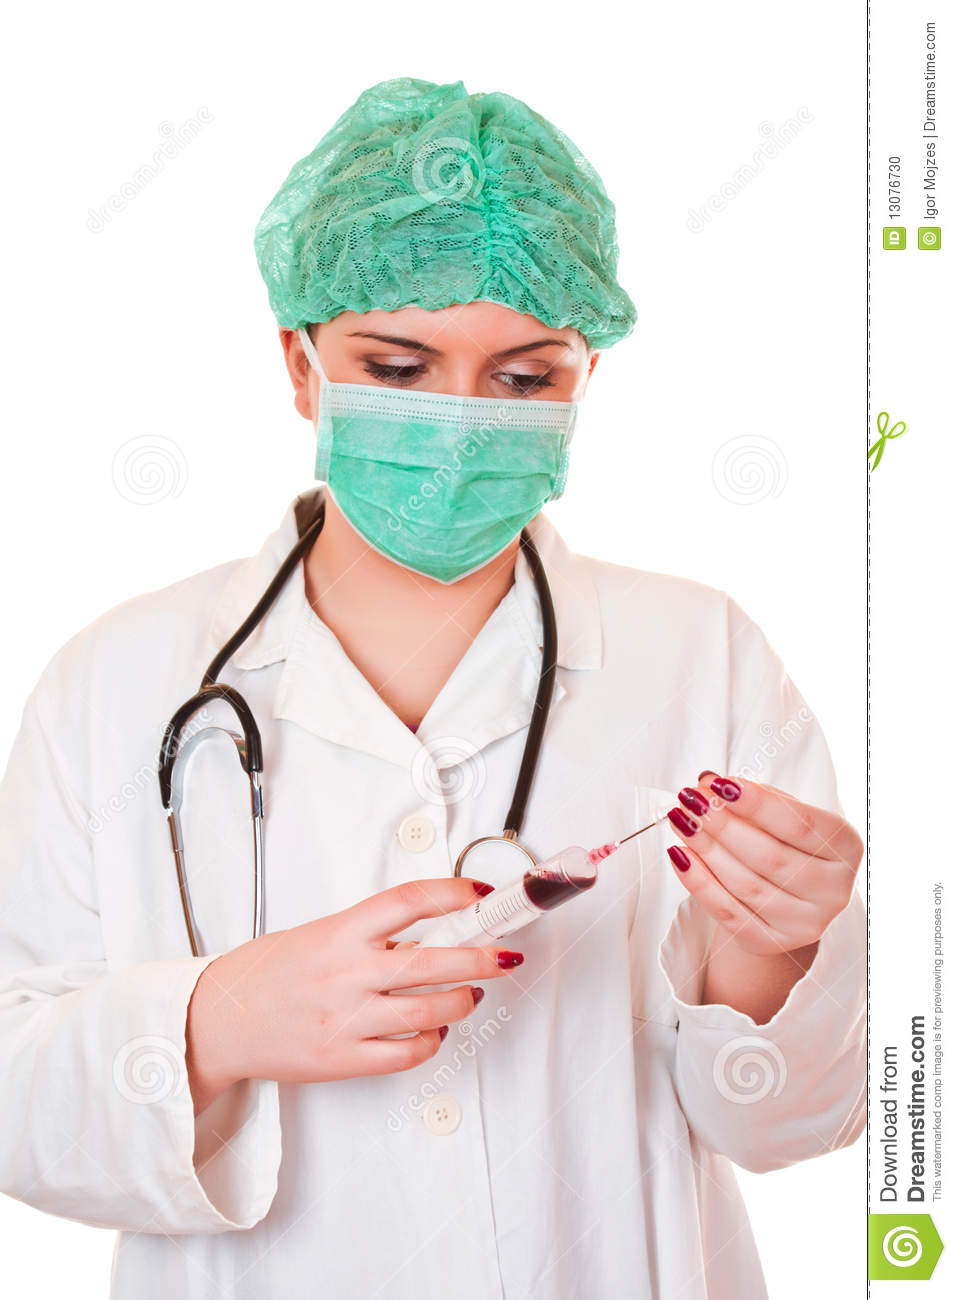mask: (315, 384, 575, 589)
